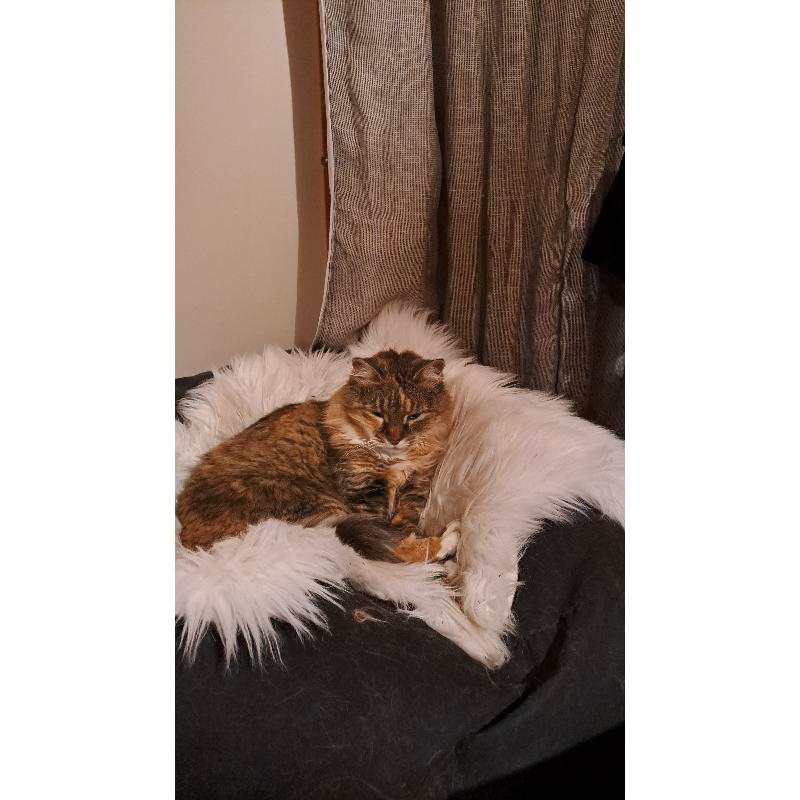yellow: (176, 347, 462, 564)
